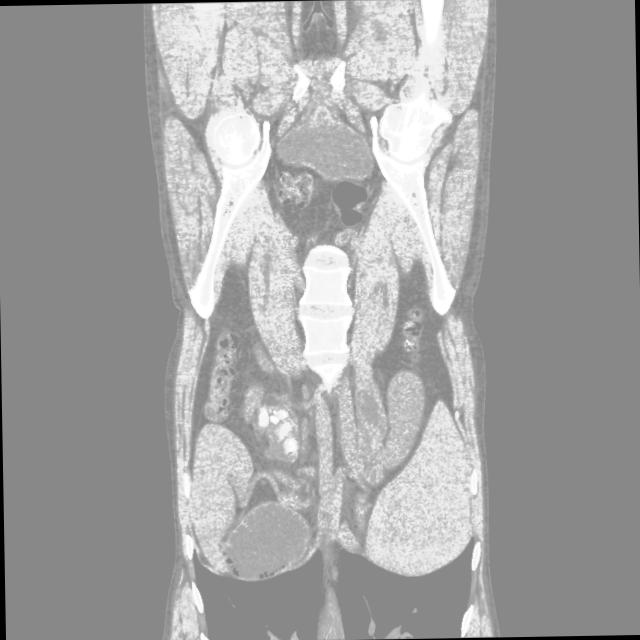STONE: (102, 200, 543, 493)
